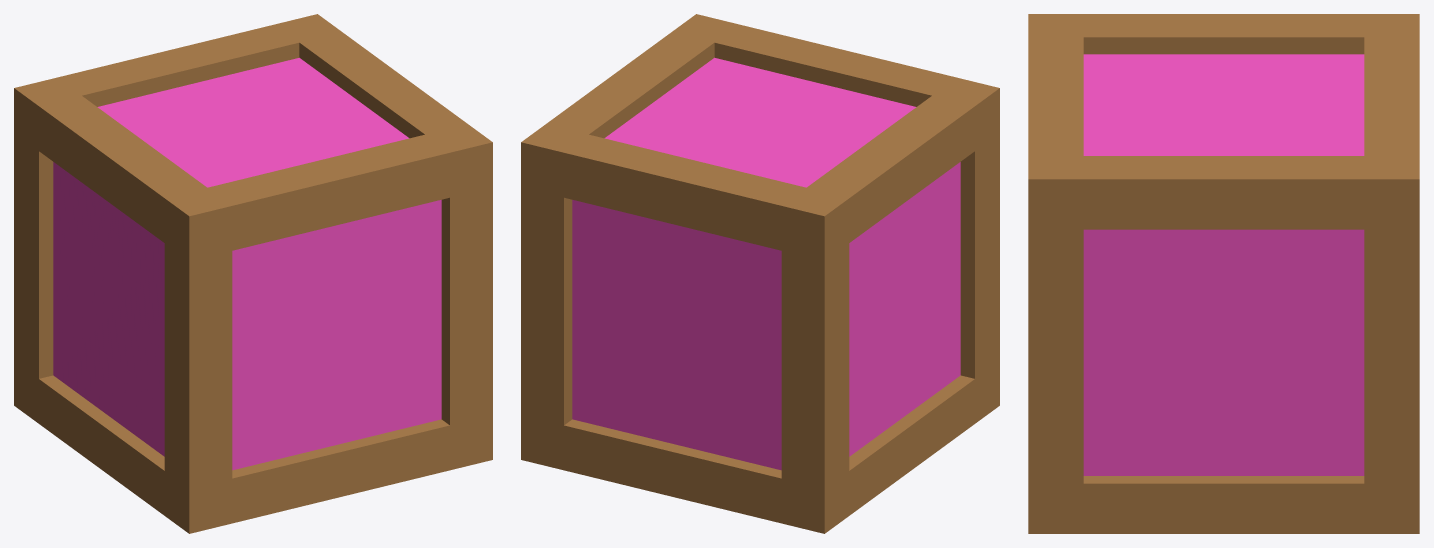
Rendered from Soup.obj.
3 views of the same model, side by side, from view 1: azimuth 30°, elevation 25°; view 2: azimuth 150°, elevation 25°; view 3: azimuth 270°, elevation 25° (orthographic). The views are drawn at different scales.
Visible parts, largest first — view 1: 立方体; view 2: 立方体; view 3: 立方体.
Part boxes in pixels (left/top/right/bottom): 立方体: left=14, top=14, right=492, bottom=533; 立方体: left=521, top=14, right=999, bottom=533; 立方体: left=1028, top=14, right=1419, bottom=533.
Size of the model in its own units: 2 by 2 by 2.
Materials: 1 (1 with a texture image).
